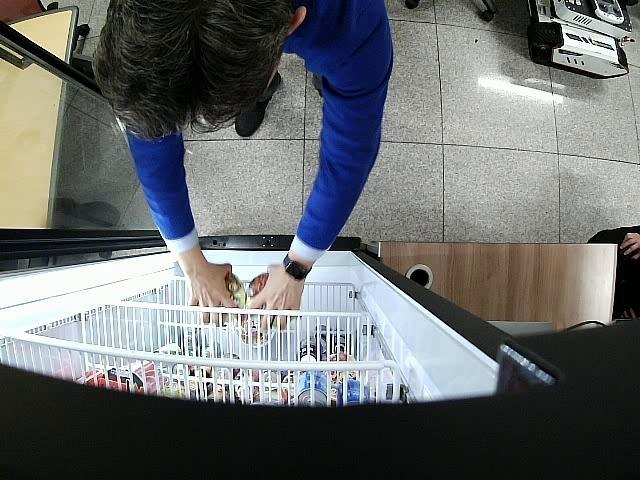03_chapagetti_L: (198, 272, 246, 322), (246, 274, 276, 326)
